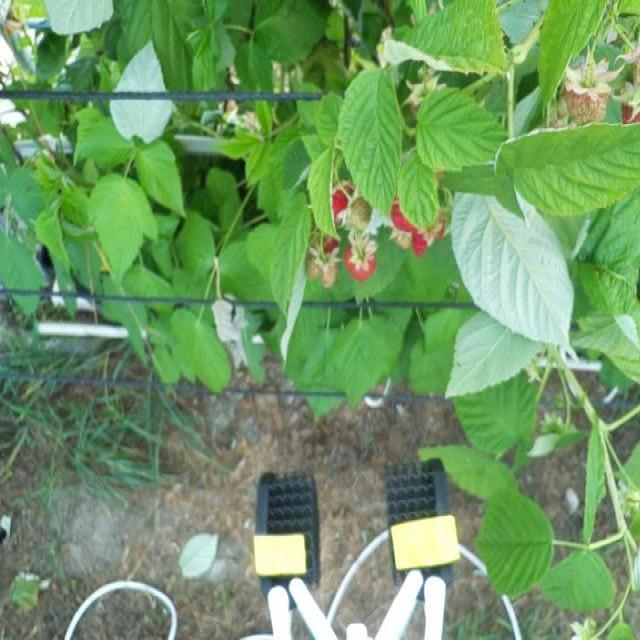Riped berries: (346, 236, 382, 284), (323, 180, 356, 222), (390, 193, 420, 234), (415, 232, 436, 261)
